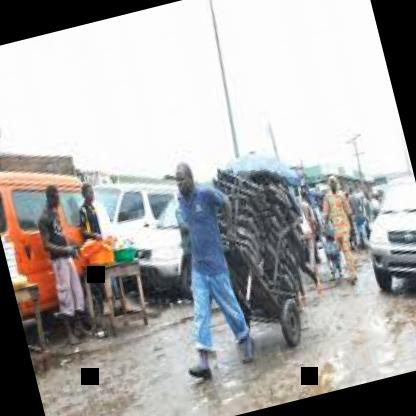car: (350, 142, 416, 329)
